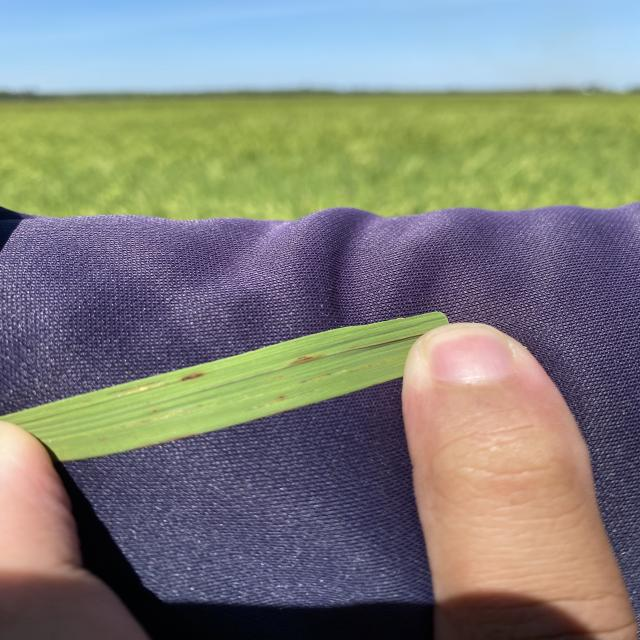Dom nau: (182, 373, 204, 381), (292, 357, 313, 364)
